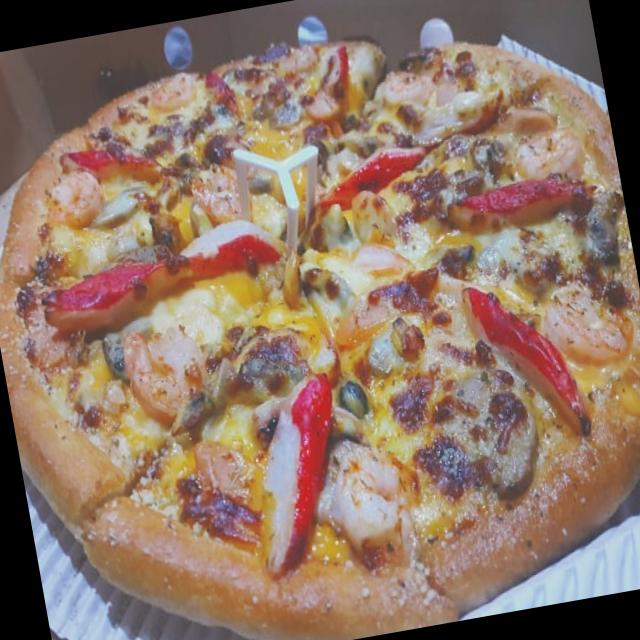mushrooms: (432, 366, 546, 502), (322, 440, 422, 580), (573, 181, 627, 271)
pizza: (0, 37, 640, 640)
